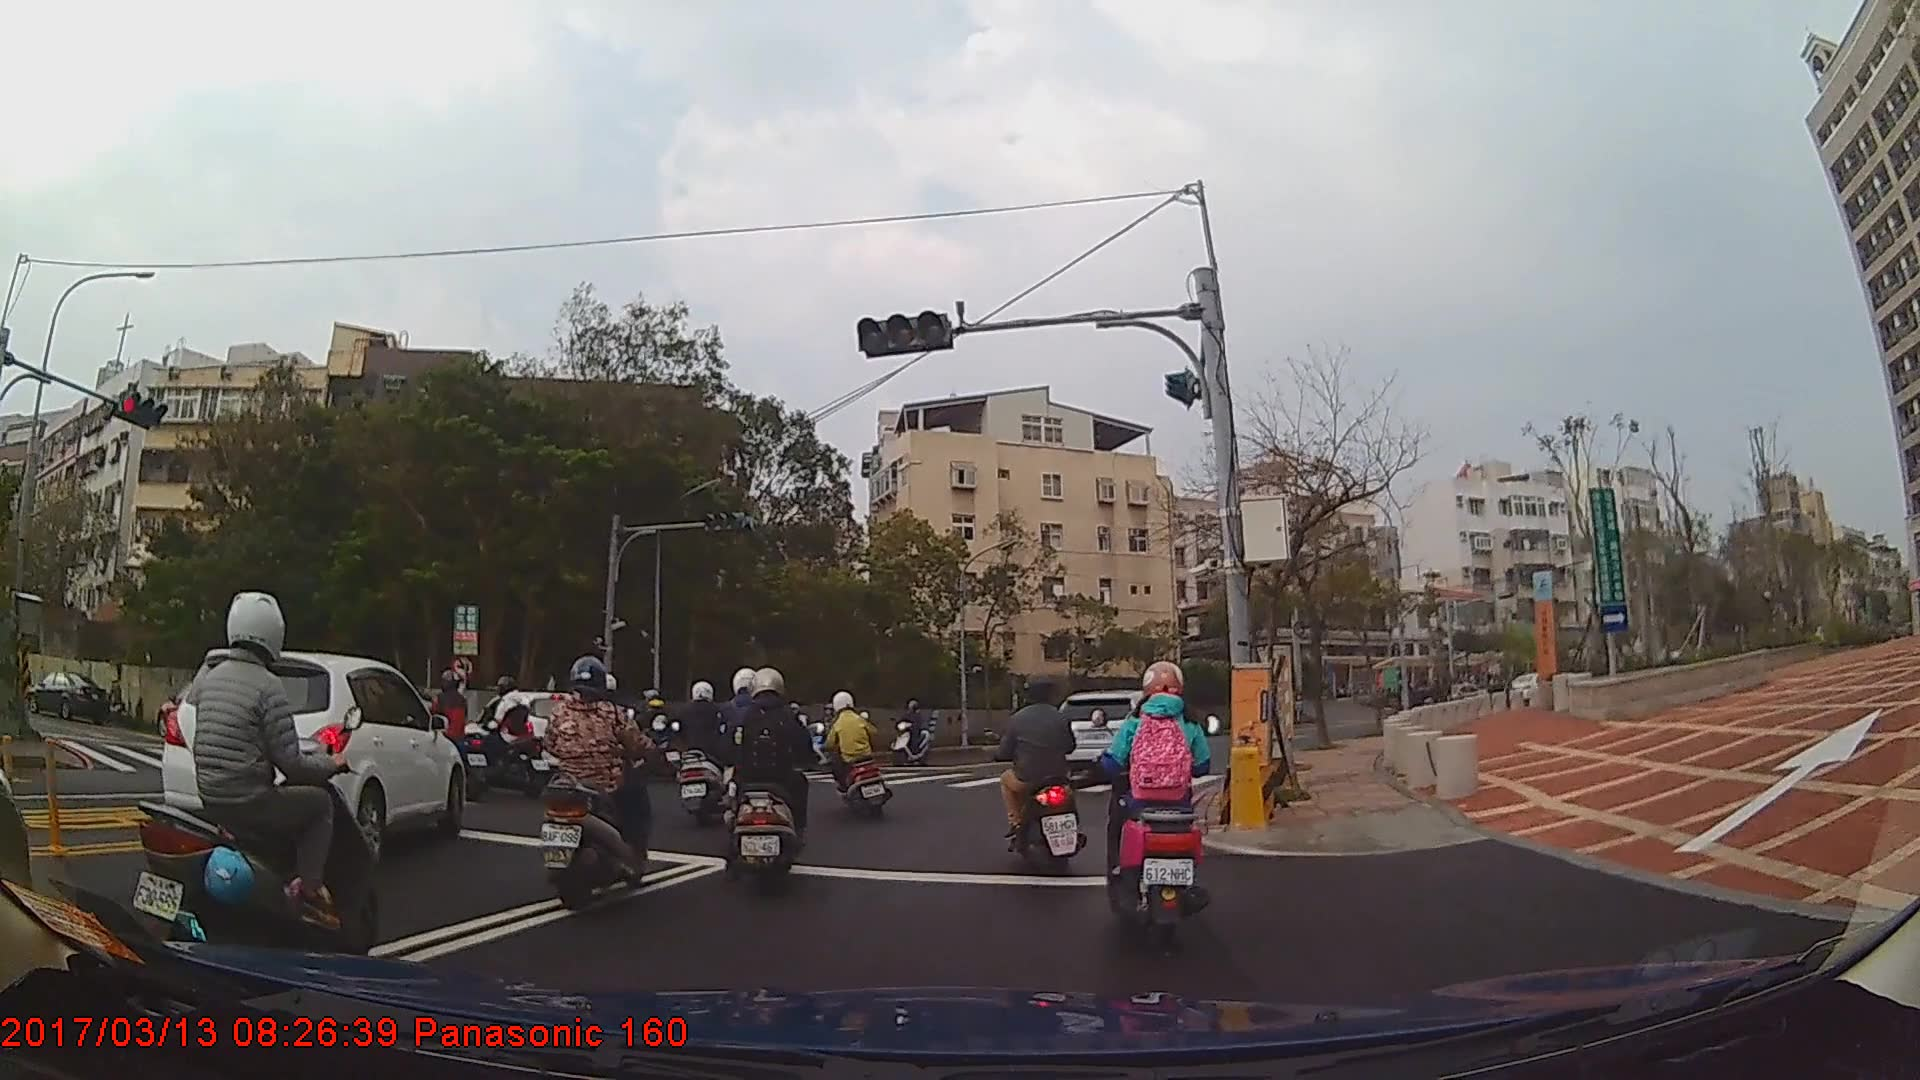rider: (133, 590, 392, 978), (539, 655, 659, 914), (1106, 655, 1216, 927), (723, 661, 813, 891), (990, 668, 1088, 873), (818, 687, 898, 820), (667, 678, 737, 824), (416, 666, 495, 794), (474, 672, 538, 777), (889, 699, 935, 762), (811, 699, 849, 760)
vehicle: (158, 644, 461, 856), (23, 668, 113, 720)
